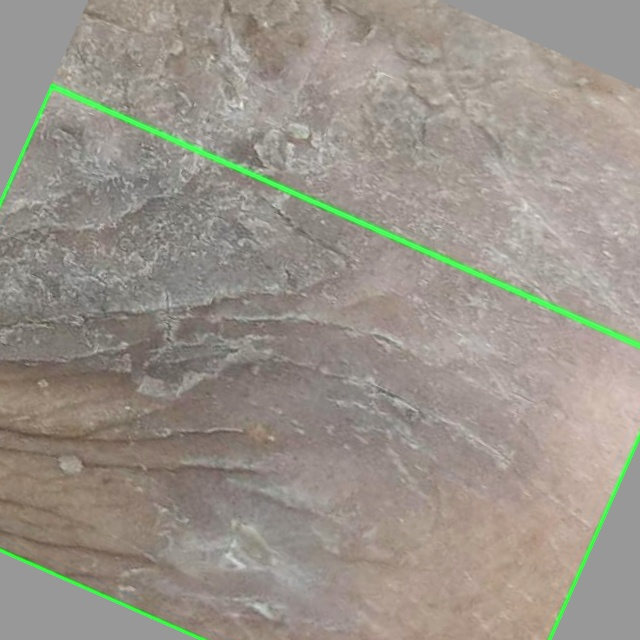Eczema: (0, 85, 639, 639)
